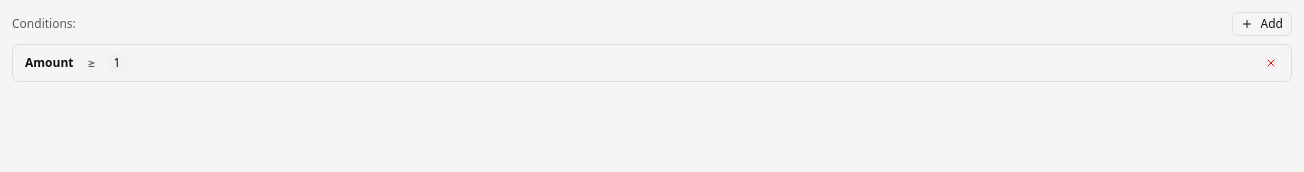
Test case: the condition field › falls back to the subject’s whole field set when the node narrows nothing
Click the button titled "Change field".
click(49, 63)  # box [21,55,78,71]
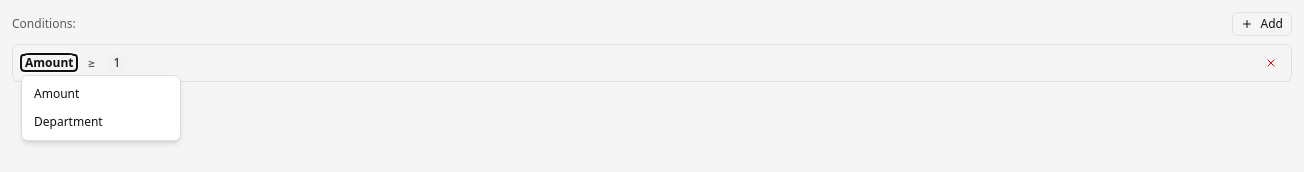
expect the button "Department" is shown: met, box [22,108,180,136]
